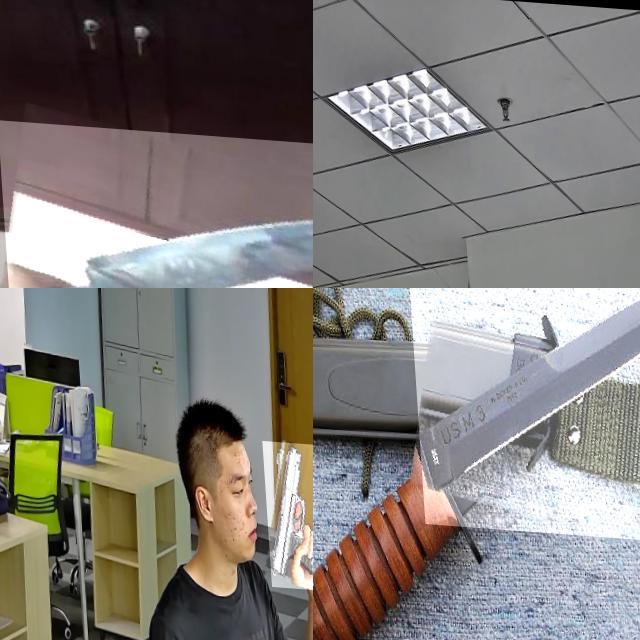-: (403, 288, 640, 536), (0, 117, 313, 288)
gun-knife-thesis - v11 Yolov5 augmented: (258, 434, 313, 584)
